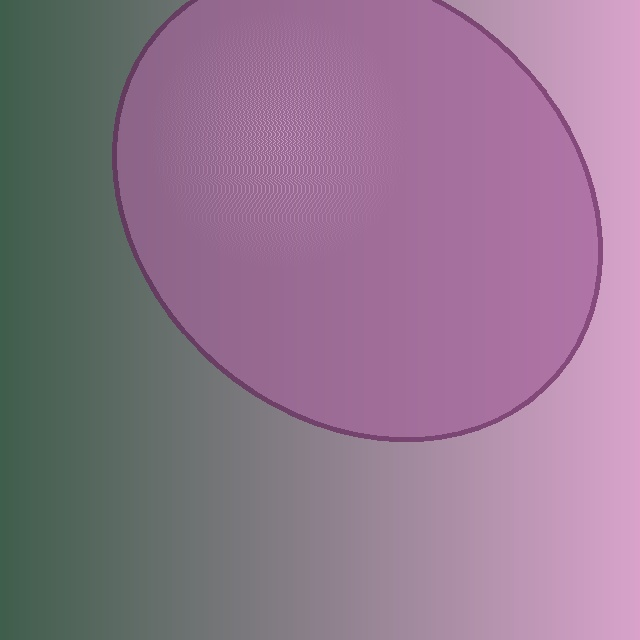lens: (115, 0, 599, 439)
